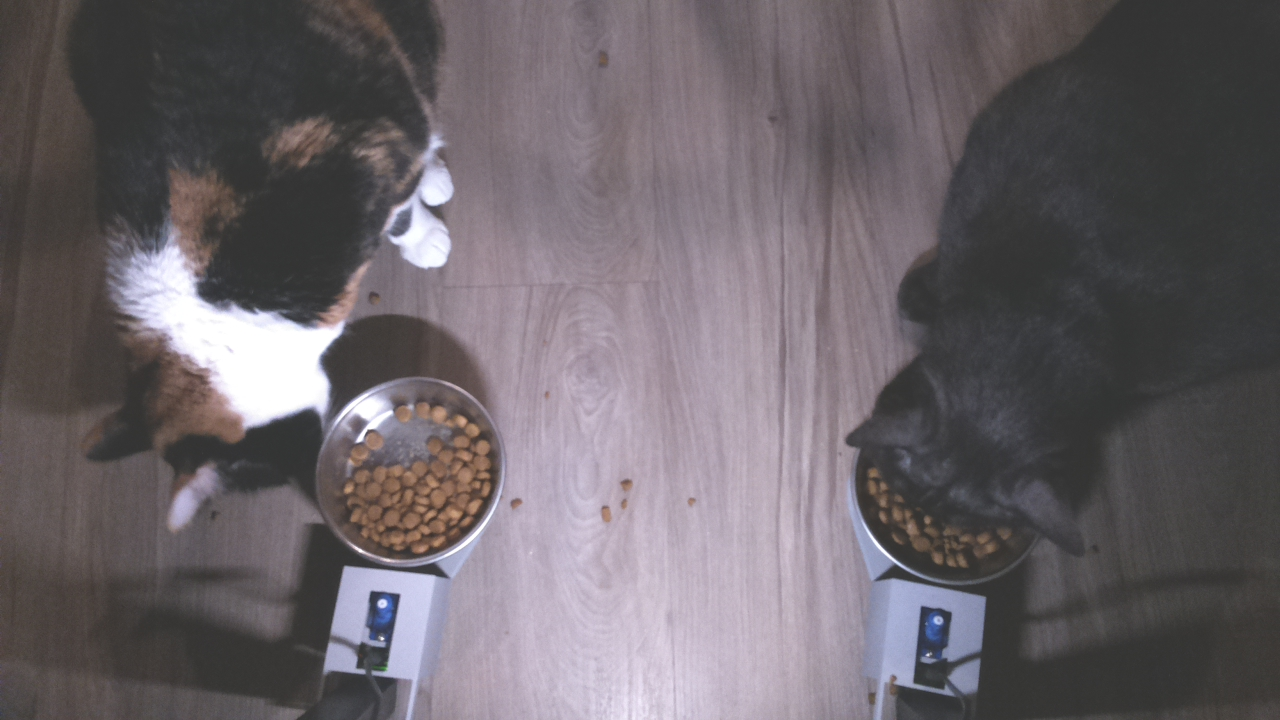bella: (56, 293, 333, 549)
open_bowl: (309, 373, 515, 570)
saki_eating: (843, 353, 1107, 596)
